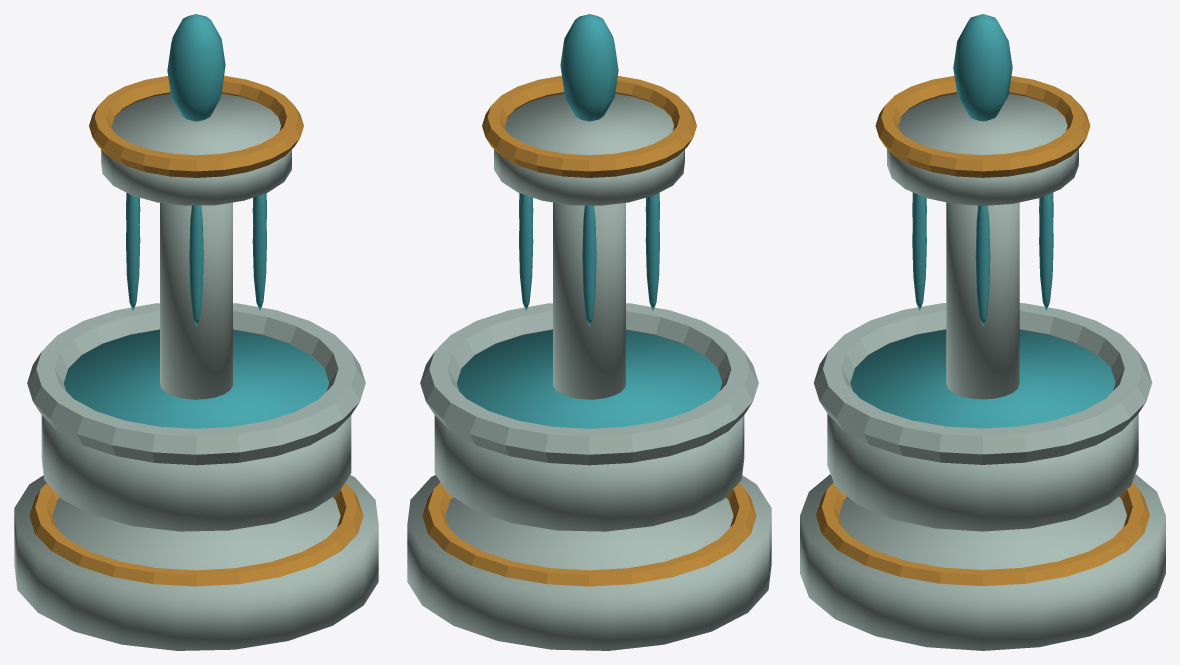
The model's file is fountain.glb.
The picture shows the model from 3 angles, left to right: view 1: azimuth 30°, elevation 25°; view 2: azimuth 150°, elevation 25°; view 3: azimuth 270°, elevation 25°; orthographic projection.
Visible parts, largest first — view 1: fountain; view 2: fountain; view 3: fountain.
Part boxes in pixels (x1,y1,x2,y2): fountain: (14,14,378,650); fountain: (407,14,771,650); fountain: (800,14,1165,650).
Bounding box in the file's own units: 0.8 × 1.35 × 0.8.
